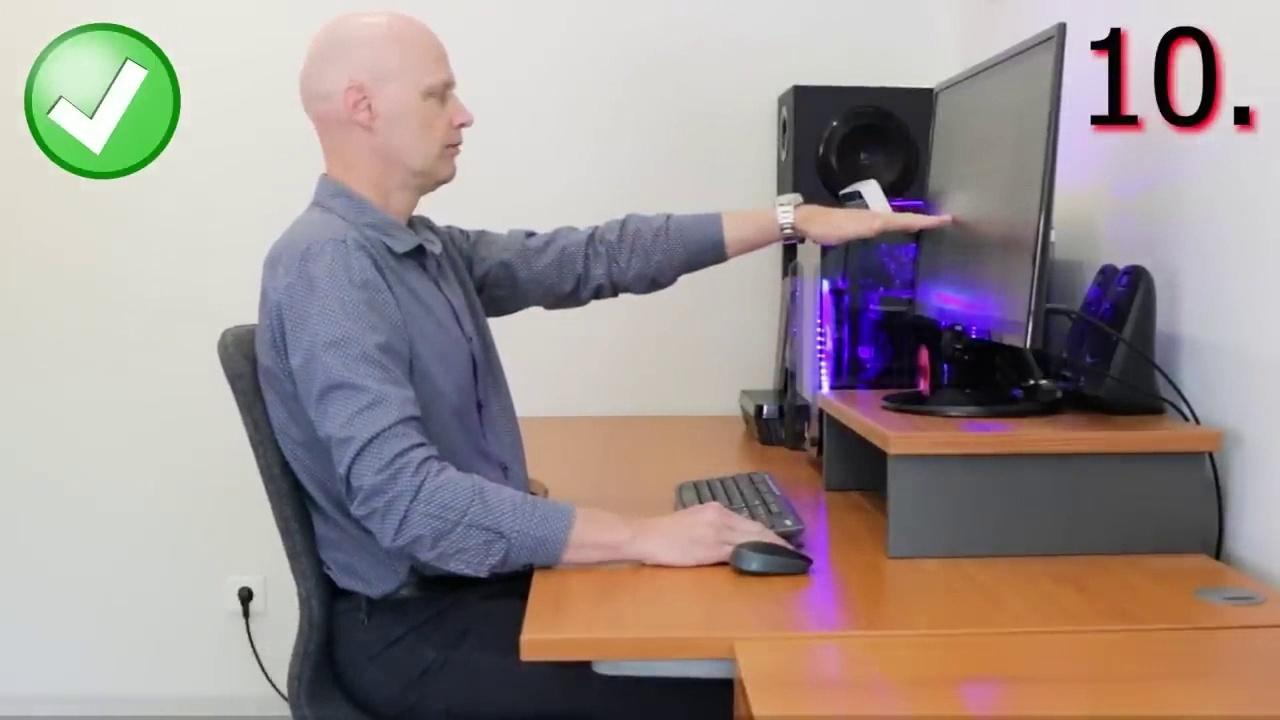GoodPosture: (255, 13, 943, 719)
